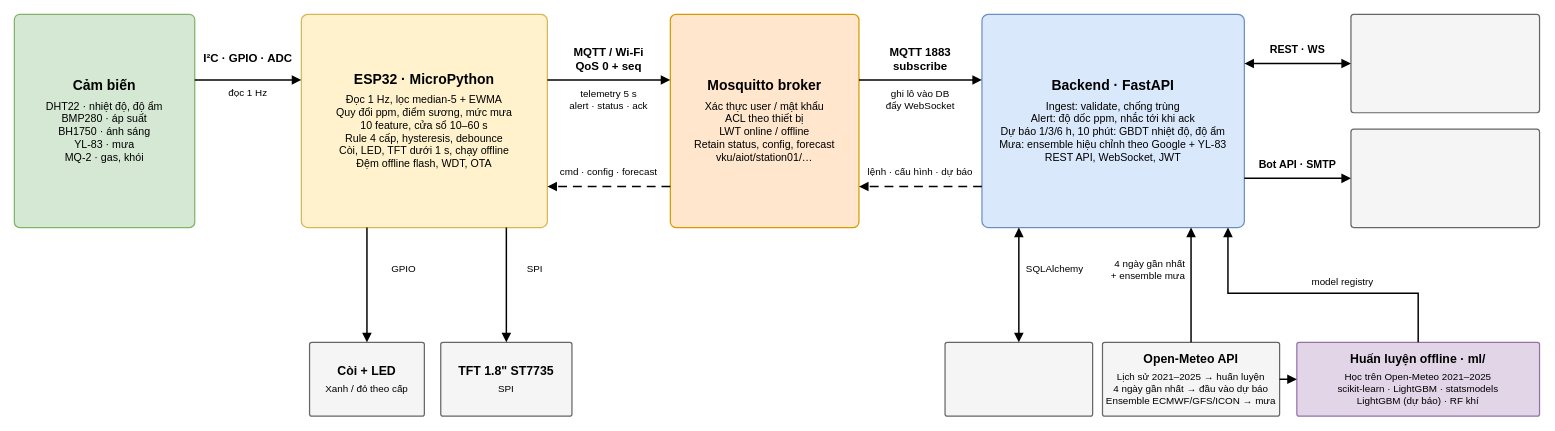
Some shapes in this 1555 by 431 pixel diagram are drawn without their labels. The centre of each missing label's shape, as x and y in pixels:
"Dashboard web Điện thoại hoặc laptop Ack cảnh báo, cấu hình Nhập số mưa Google" goes at point 1445,63.
"Telegram / Email Cảnh báo cấp 2–3 Bản tin dự báo 6 h sáng" goes at point 1445,178.
"TimescaleDB telemetry · alerts · forecasts google_rain_obs" goes at point 1018,378.
